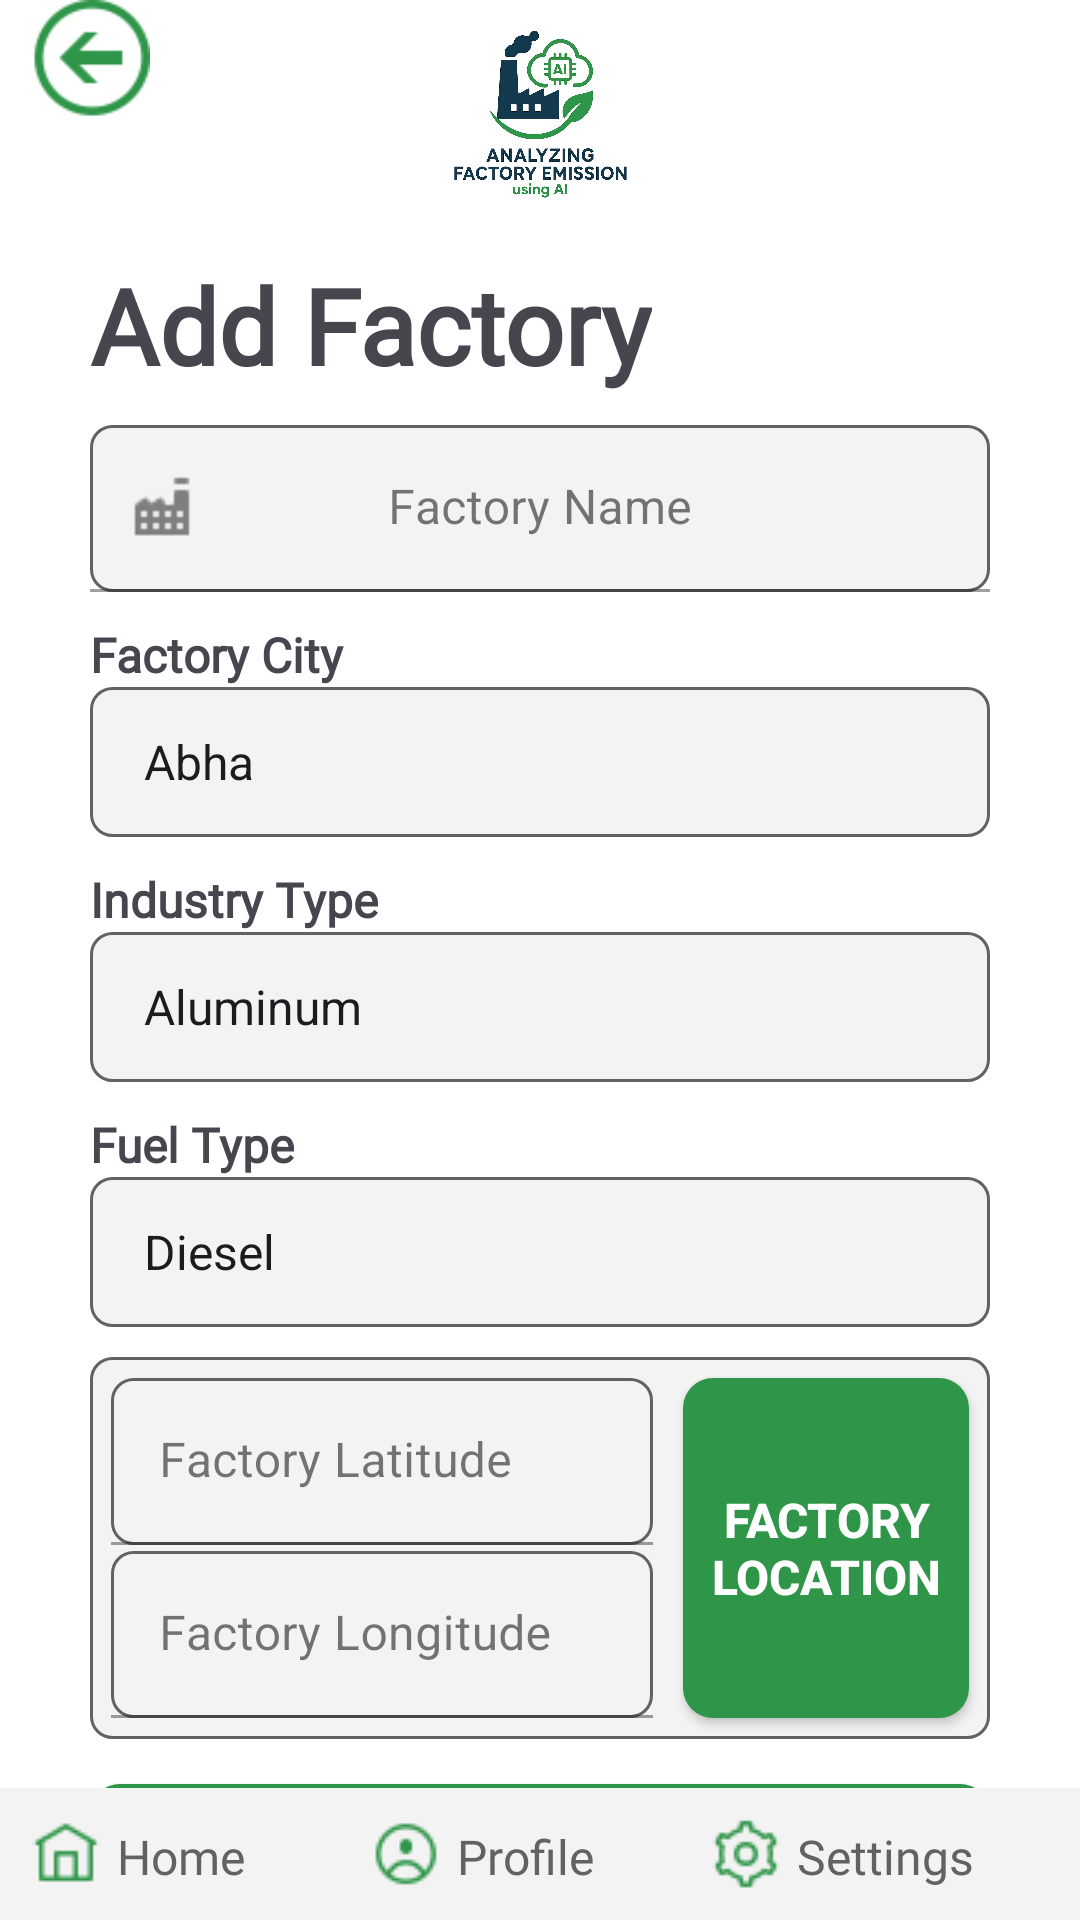

Where to tap for icons on this 1080w x 1920h app screen, as (x,y):
back: (92,58)
